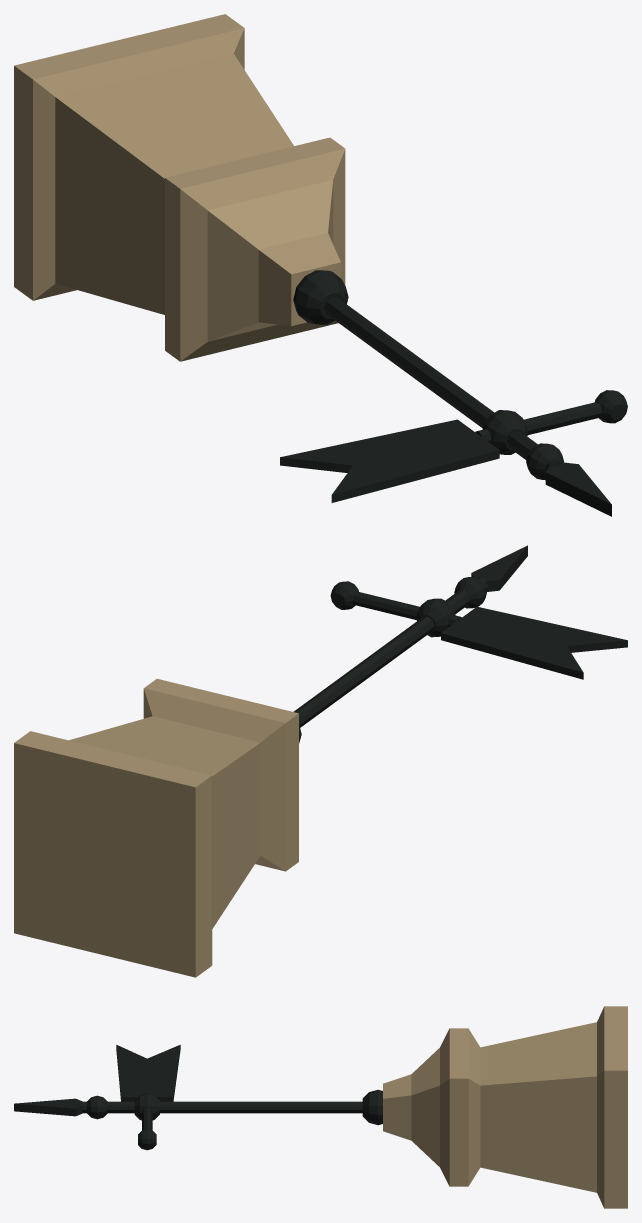
Rendered from T11_Summit_Weather_Vane.obj.
The picture shows the model from 3 angles, top to bottom: view 1: azimuth 30°, elevation 25°; view 2: azimuth 150°, elevation 25°; view 3: azimuth 270°, elevation 25°; orthographic projection. The views are drawn at different scales.
Parts seen in each view (by area): view 1: T11_Summit_Weather_Vane; view 2: T11_Summit_Weather_Vane; view 3: T11_Summit_Weather_Vane.
Boxes of the visible parts, box(x1,y1,x2,y2) form: T11_Summit_Weather_Vane: box(14, 14, 627, 516); T11_Summit_Weather_Vane: box(14, 545, 627, 977); T11_Summit_Weather_Vane: box(14, 1006, 627, 1208).
Size of the model in its own units: 0.965 by 0.64 by 2.58.
